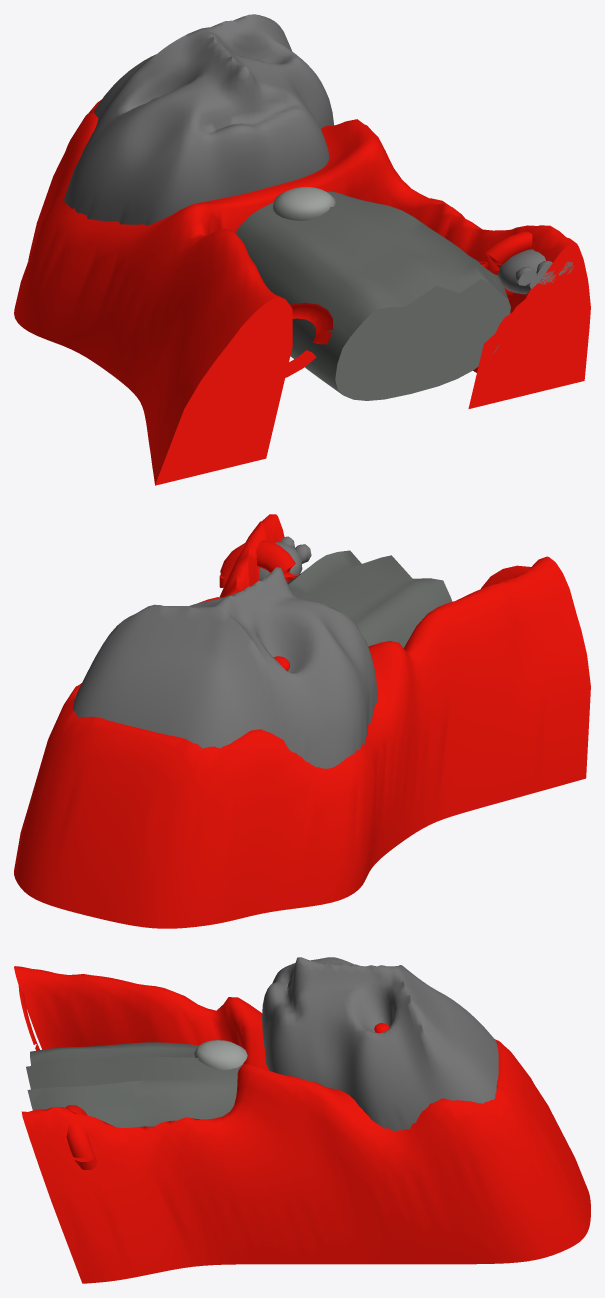
File: hooded_top.glb
3 renders of one model, top to bottom at view 1: azimuth 30°, elevation 25°; view 2: azimuth 150°, elevation 25°; view 3: azimuth 270°, elevation 25°, orthographic. The views are drawn at different scales.
Parts seen in each view (by area): view 1: hooded_top; view 2: hooded_top; view 3: hooded_top.
Part boxes in pixels (bbox=[...]): hooded_top: bbox=[14, 14, 590, 485]; hooded_top: bbox=[14, 514, 590, 928]; hooded_top: bbox=[14, 957, 590, 1283].
Size of the model in its own units: 18.5 by 11.32 by 24.95.
